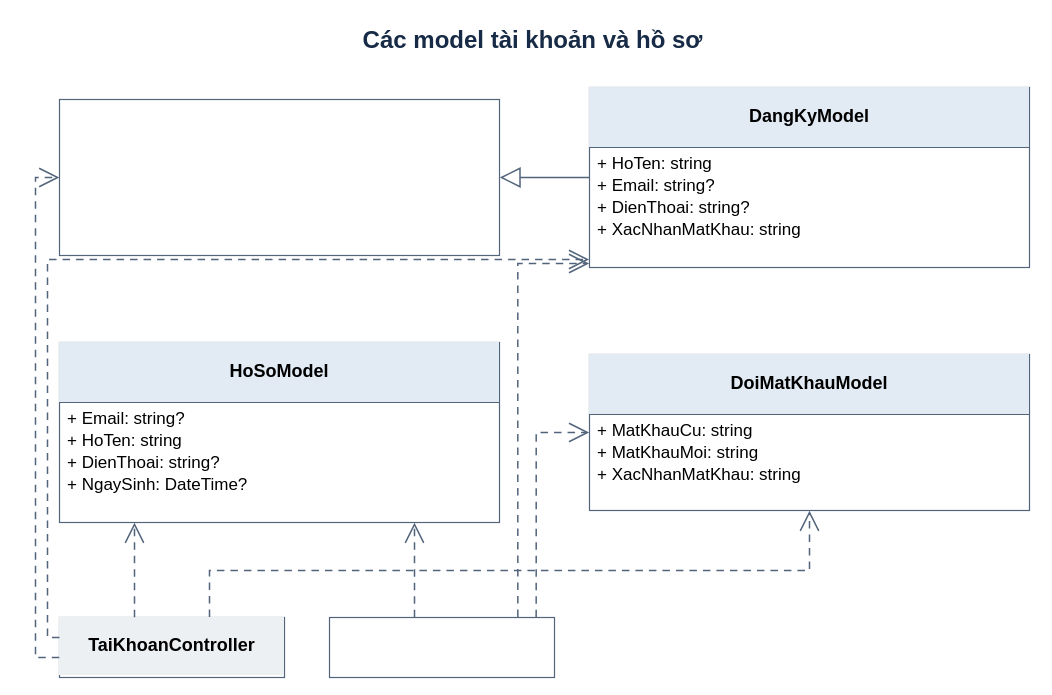
Some shapes in this 1052 by 695 pixel diagram are drawn without their labels. Each missing label, with the centre of its shape:
"DangNhapModel + TenDangNhap: string + MatKhau: string + ReturnUrl: string?" goes at point (279, 177).
"TaiKhoanData" goes at point (441, 647).
